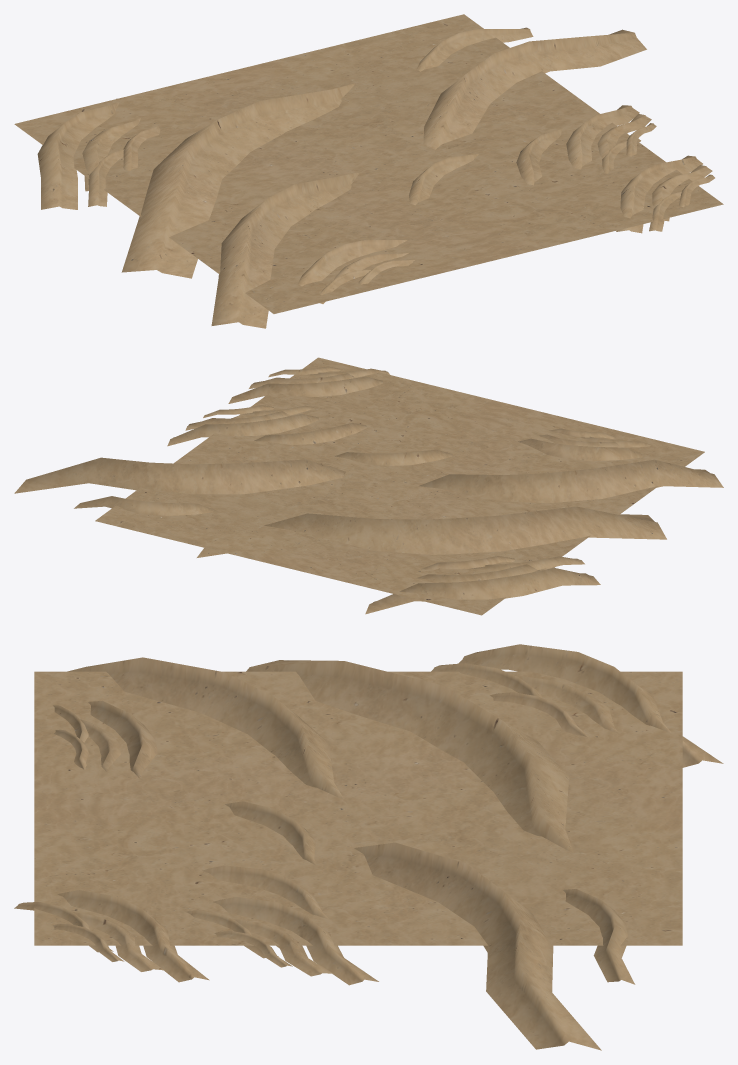
The model's file is Dunes_Segment_3.fbx.
The picture shows the model from 3 angles, top to bottom: view 1: azimuth 30°, elevation 25°; view 2: azimuth 150°, elevation 25°; view 3: azimuth 270°, elevation 25°; orthographic projection. The views are drawn at different scales.
Visible parts, largest first — view 1: Dunes_Segment_3; view 2: Dunes_Segment_3; view 3: Dunes_Segment_3.
Boxes of the visible parts, bbox=[...] form: Dunes_Segment_3: bbox=[14, 14, 723, 328]; Dunes_Segment_3: bbox=[14, 357, 723, 615]; Dunes_Segment_3: bbox=[14, 644, 723, 1050].
Bounding box in the file's own units: 14042 × 1069 × 10954.
